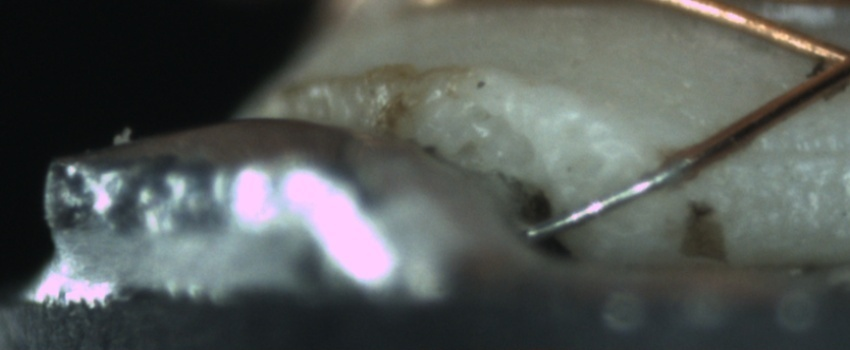CL: (798, 27, 850, 93)
DL: (721, 122, 849, 179)
TS: (528, 155, 695, 240)
